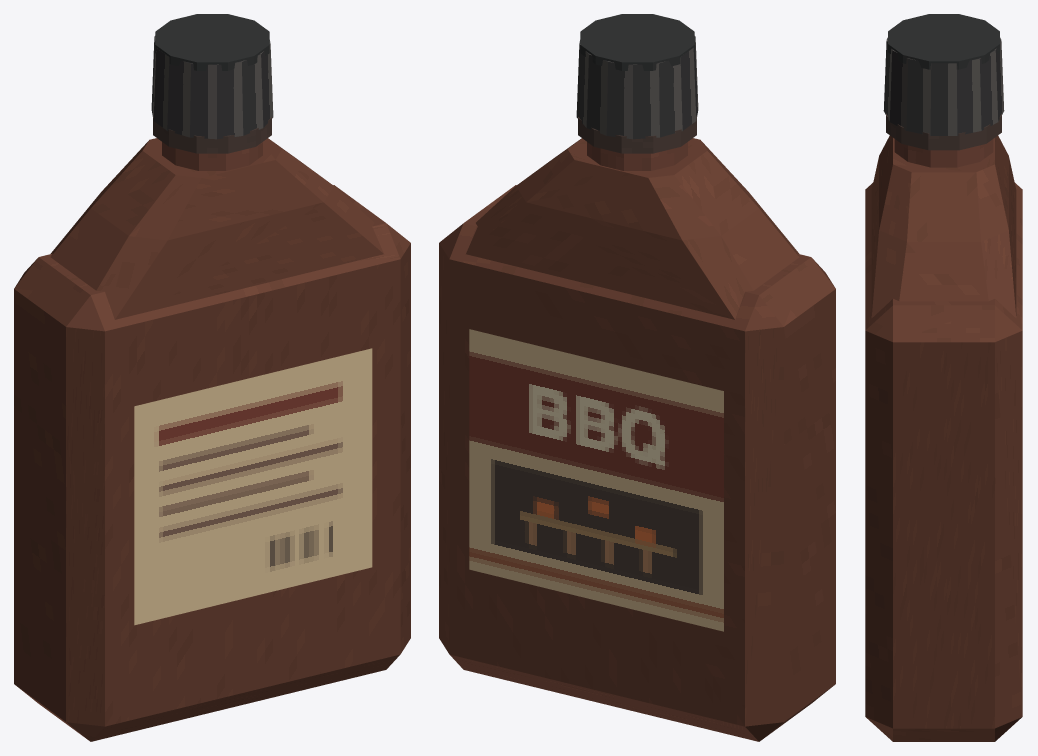
The model's file is barbecue_sauce.glb.
3 renders of one model, left to right at view 1: azimuth 30°, elevation 25°; view 2: azimuth 150°, elevation 25°; view 3: azimuth 270°, elevation 25°, orthographic. The views are drawn at different scales.
Parts seen in each view (by area): view 1: block_wide flat squeeze bottle, block_back label, block_tapered bottle shoulders, block_ribbed flip-top cap, block_cap top, block_tamper band, block_short bottle neck; view 2: block_wide flat squeeze bottle, block_BBQ front label, block_tapered bottle shoulders, block_ribbed flip-top cap, block_cap top, block_tamper band, block_short bottle neck; view 3: block_wide flat squeeze bottle, block_tapered bottle shoulders, block_ribbed flip-top cap, block_cap top, block_tamper band, block_short bottle neck.
Boxes of the visible parts, x1,y1,x2,y2 form: block_wide flat squeeze bottle: (14,185,410,741); block_back label: (134,348,372,625); block_tapered bottle shoulders: (50,138,383,319); block_ribbed flip-top cap: (151,36,273,139); block_cap top: (155,14,269,70); block_tamper band: (153,116,271,153); block_short bottle neck: (162,142,262,170); block_wide flat squeeze bottle: (439,185,835,741); block_BBQ front label: (469,329,723,631); block_tapered bottle shoulders: (466,138,799,319); block_ribbed flip-top cap: (576,36,698,139); block_cap top: (580,14,694,70); block_tamper band: (578,116,696,153); block_short bottle neck: (587,142,687,170); block_wide flat squeeze bottle: (865,182,1022,741); block_tapered bottle shoulders: (871,135,1016,317); block_ribbed flip-top cap: (883,37,1004,135); block_cap top: (888,14,999,69); block_tamper band: (886,113,1001,150); block_short bottle neck: (894,139,993,167).
Bounding box in the file's own units: 0.084 × 0.151 × 0.0344.
Materials: 1 (1 with a texture image).
